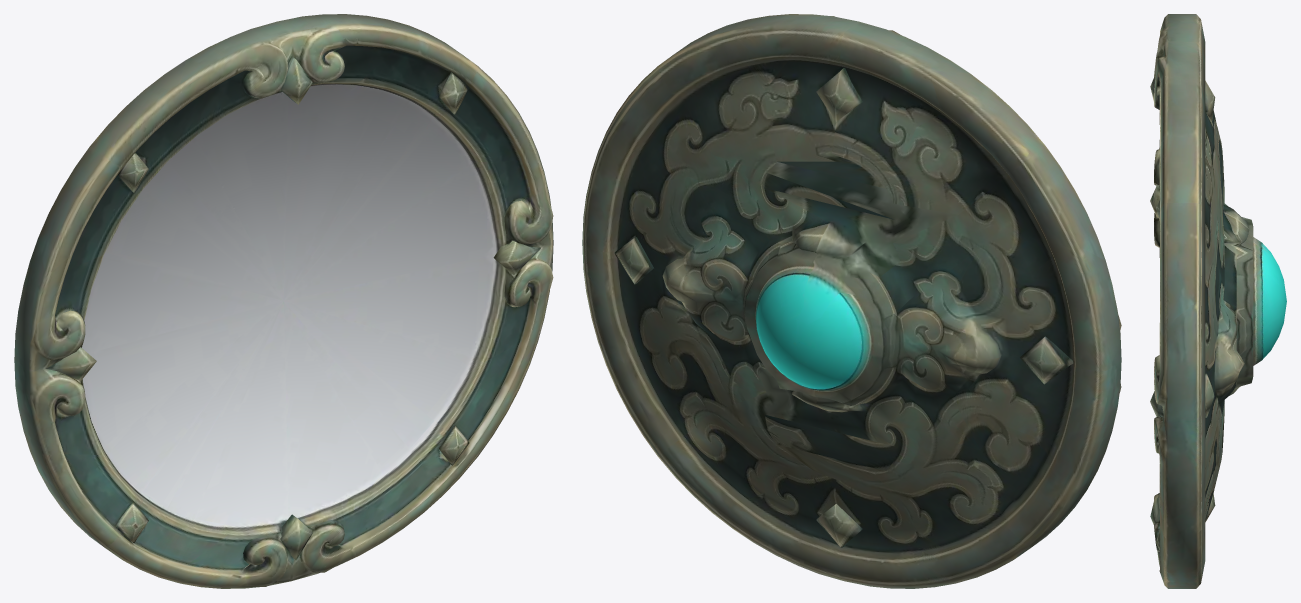
The model's file is SM_EnemyPart_FoxWitchMirror.glb.
3 renders of one model, left to right at view 1: azimuth 30°, elevation 25°; view 2: azimuth 150°, elevation 25°; view 3: azimuth 270°, elevation 25°, orthographic. The views are drawn at different scales.
Parts seen in each view (by area): view 1: SM_EnemyPart_FoxWitchMirror_LOD0; view 2: SM_EnemyPart_FoxWitchMirror_LOD0; view 3: SM_EnemyPart_FoxWitchMirror_LOD0.
Part boxes in pixels (x1=…): SM_EnemyPart_FoxWitchMirror_LOD0: x1=14, y1=14, x2=553, y2=588; SM_EnemyPart_FoxWitchMirror_LOD0: x1=582, y1=14, x2=1121, y2=588; SM_EnemyPart_FoxWitchMirror_LOD0: x1=1150, y1=14, x2=1286, y2=588.
Size of what is drawn, in the model's own units: 0.622 by 0.622 by 0.1486.
1 material, 1 textured.
